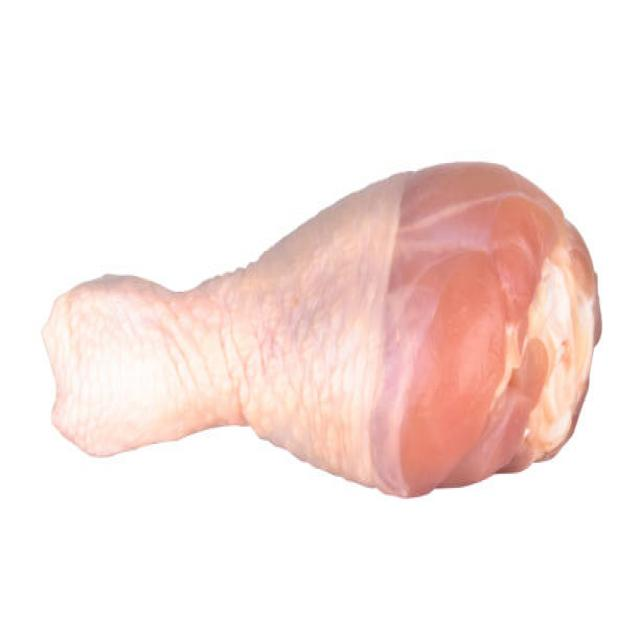Chicken: (42, 152, 605, 513)
